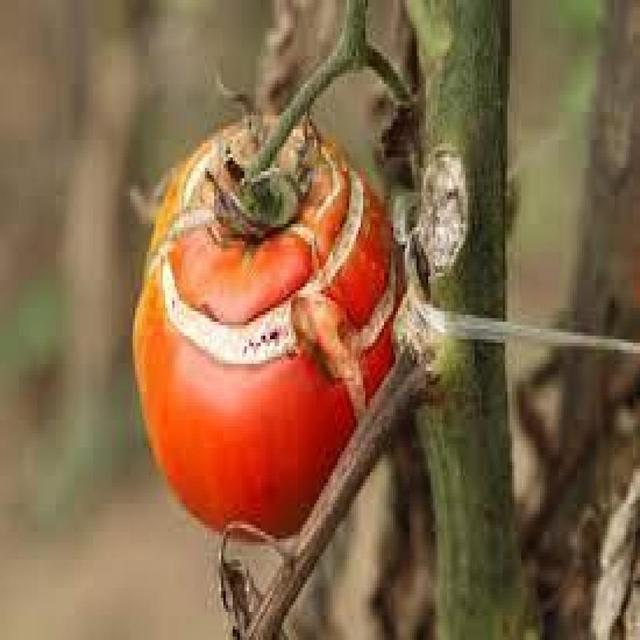Cracking Fruit: (63, 81, 238, 191)
